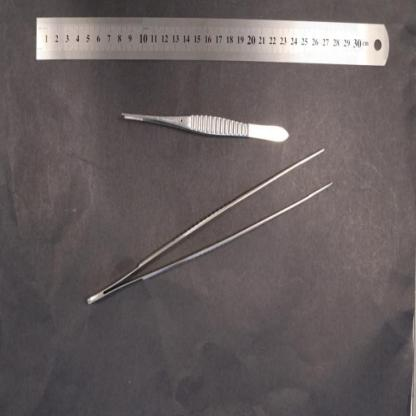DeBakey Dissector: (86, 148, 335, 304)
Gillies Toothed Dissector: (121, 113, 290, 145)
